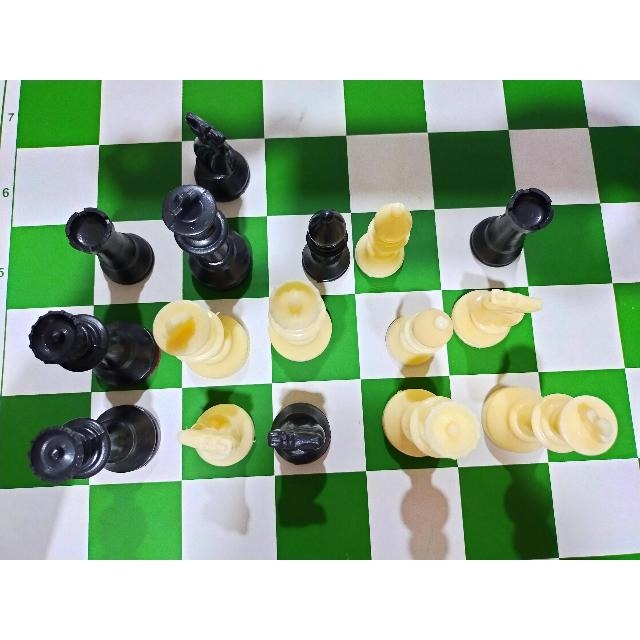black-bishop: (298, 203, 353, 278)
black-king: (155, 186, 259, 290)
black-knight: (179, 106, 253, 196), (264, 403, 333, 463)
black-queen: (16, 402, 160, 480), (26, 314, 160, 385)
black-rook: (466, 185, 558, 269), (60, 207, 156, 285)
white-bishop: (355, 202, 420, 283), (377, 302, 455, 367)
white-king: (482, 379, 626, 454), (150, 295, 254, 381)
white-knight: (456, 281, 540, 349), (172, 404, 254, 472)
white-queen: (376, 390, 478, 462), (262, 281, 339, 362)
